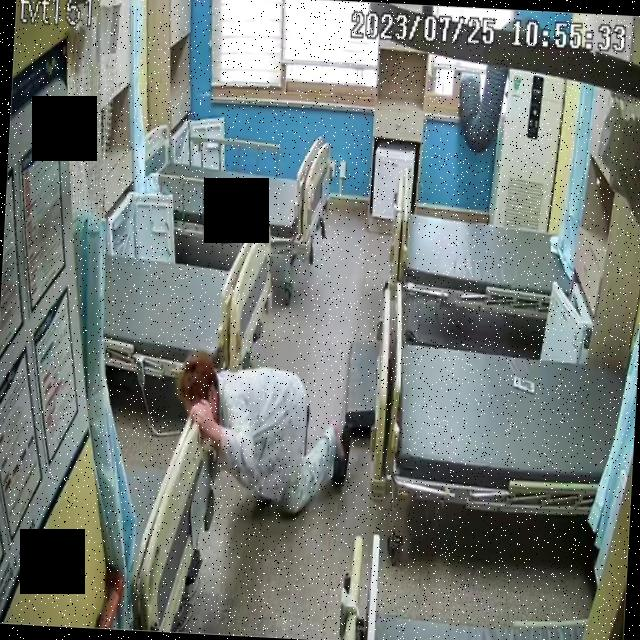bed: (388, 331, 630, 517), (98, 212, 279, 398), (139, 124, 330, 255), (389, 188, 576, 318)
fall: (172, 353, 354, 519)
patient: (172, 354, 354, 518)
